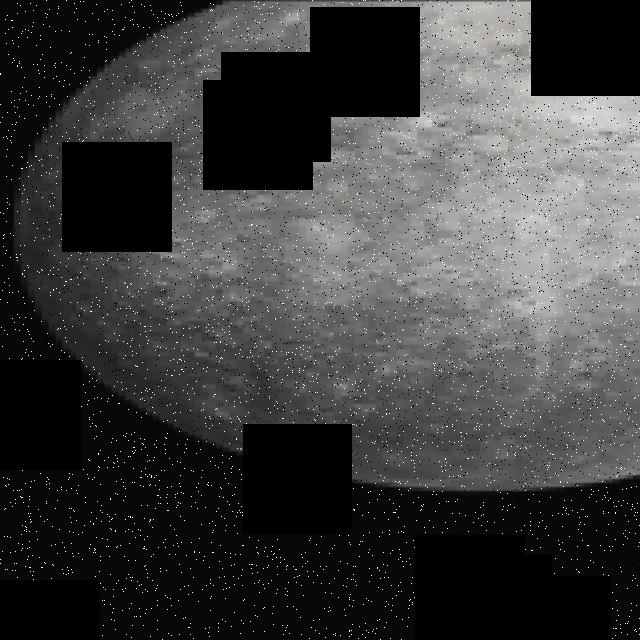Mercury: (14, 0, 640, 490)
